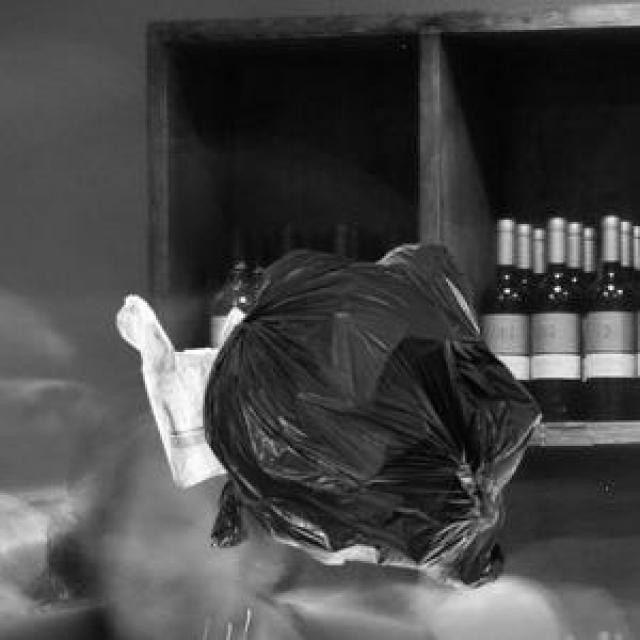miscellaneous trash: (198, 248, 538, 565), (207, 239, 501, 585)
